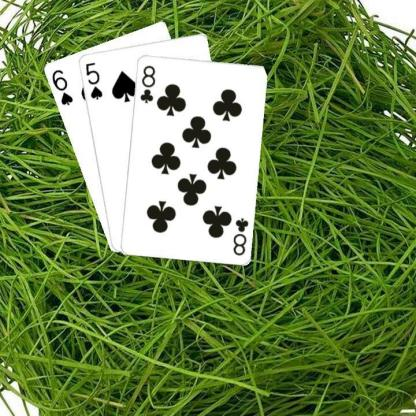5S: (82, 60, 104, 100)
6S: (49, 66, 74, 107)
8C: (137, 62, 157, 104), (230, 215, 250, 256)
